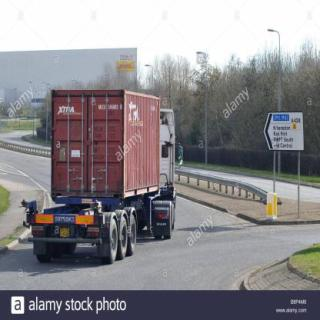Normal_vehicle: (19, 79, 182, 267)
